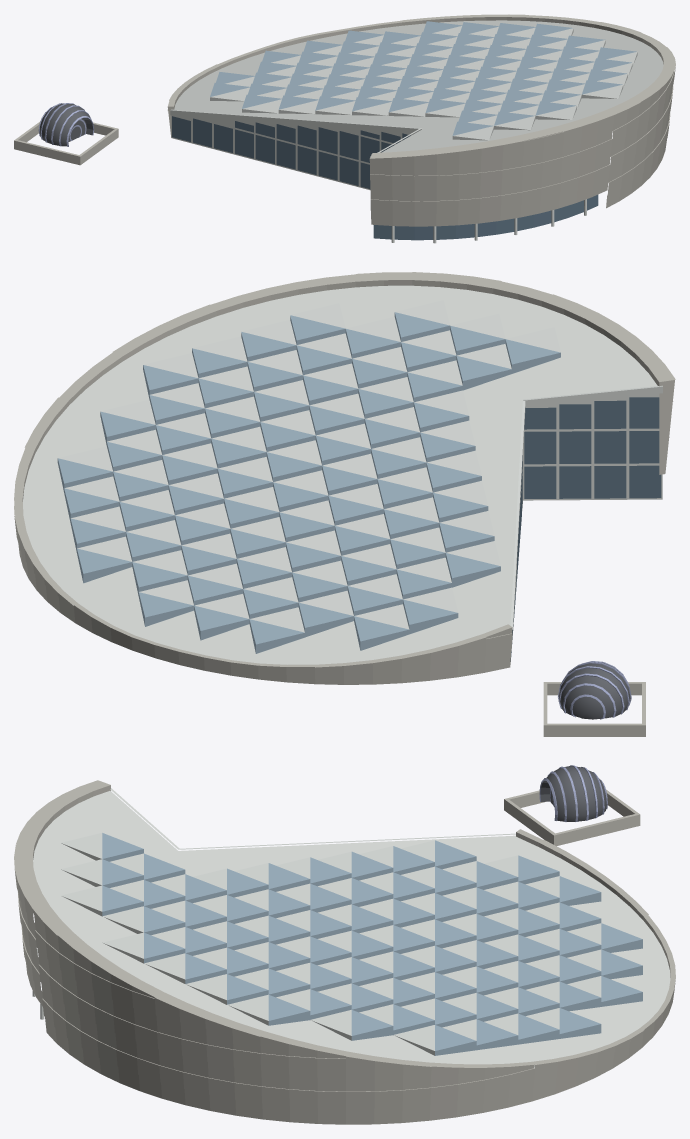
File: alexandria-bibliotheca.glb
3 views of the same model, one above another, from view 1: azimuth 30°, elevation 25°; view 2: azimuth 150°, elevation 25°; view 3: azimuth 270°, elevation 25° (orthographic). The views are drawn at different scales.
Parts seen in each view (by area): view 1: Bibliotheca Alexandrina; view 2: Bibliotheca Alexandrina; view 3: Bibliotheca Alexandrina.
Part boxes in pixels (<box>): Bibliotheca Alexandrina: <box>14,14,675,243</box>; Bibliotheca Alexandrina: <box>14,272,675,736</box>; Bibliotheca Alexandrina: <box>14,765,675,1124</box>.
Bounding box in the file's own units: 193 × 34.3 × 159.
